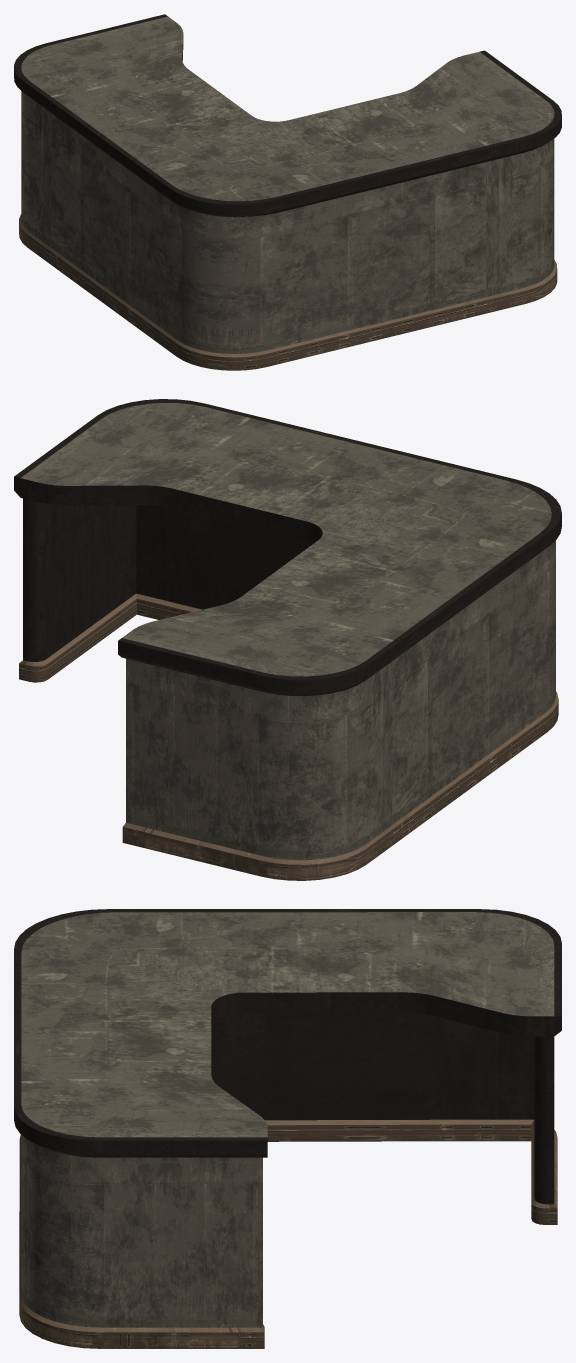
The model's file is Prop_Desk_L.gltf.
3 views of the same model, one above another, from view 1: azimuth 30°, elevation 25°; view 2: azimuth 150°, elevation 25°; view 3: azimuth 270°, elevation 25° (orthographic). The views are drawn at different scales.
Parts seen in each view (by area): view 1: Prop_Desk_L; view 2: Prop_Desk_L; view 3: Prop_Desk_L.
Boxes of the visible parts, x1,y1,x2,y2 form: Prop_Desk_L: (14, 14, 561, 370); Prop_Desk_L: (14, 399, 561, 880); Prop_Desk_L: (14, 909, 561, 1348).
Size of the model in its own units: 2.22 by 0.9396 by 2.22.
3 materials, 3 textured.
